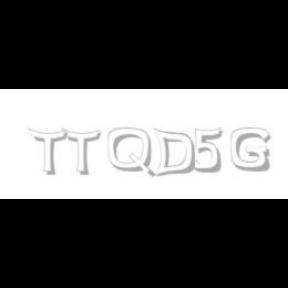5: (192, 128, 222, 174)
D: (152, 128, 196, 178)
G: (230, 128, 270, 172)
Q: (108, 128, 154, 178)
T: (28, 128, 68, 176), (61, 128, 101, 176)
